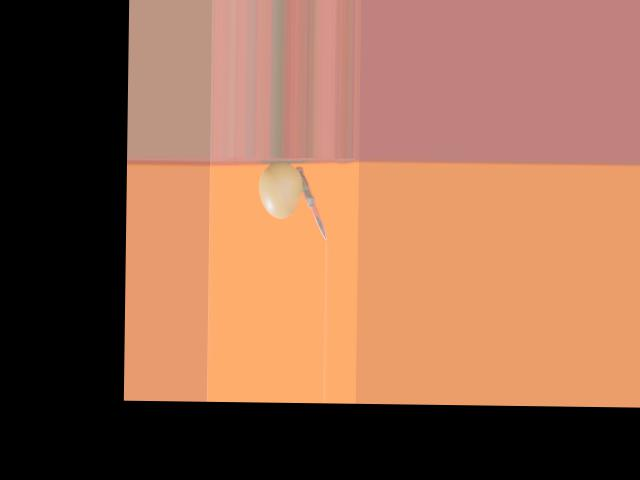egg: (259, 162, 302, 217)
